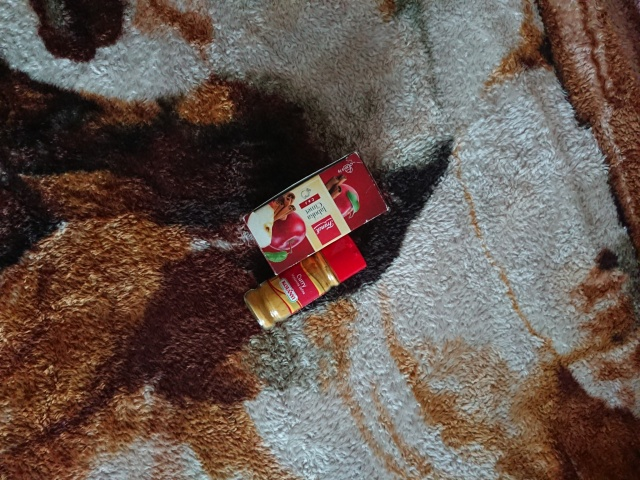Franck Apple Cinnamon Tea 60g: (239, 146, 398, 279)
Kotanyi Curry Spices Mix 70g: (241, 232, 373, 332)
